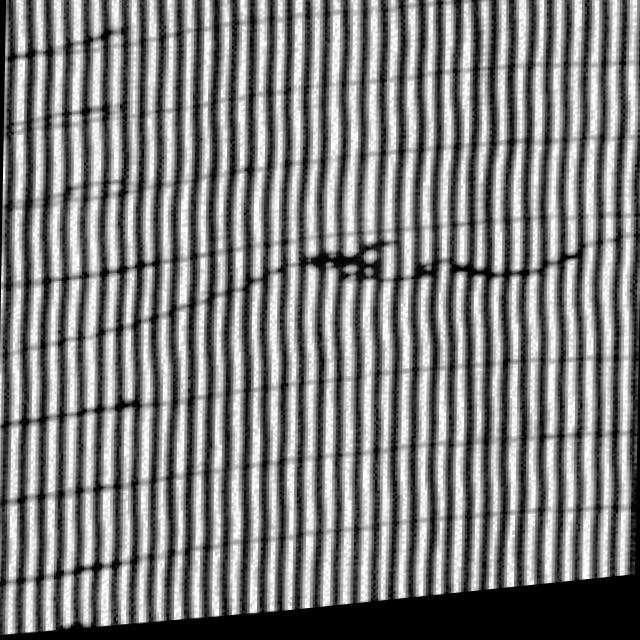Stitch: (195, 214, 640, 350)
